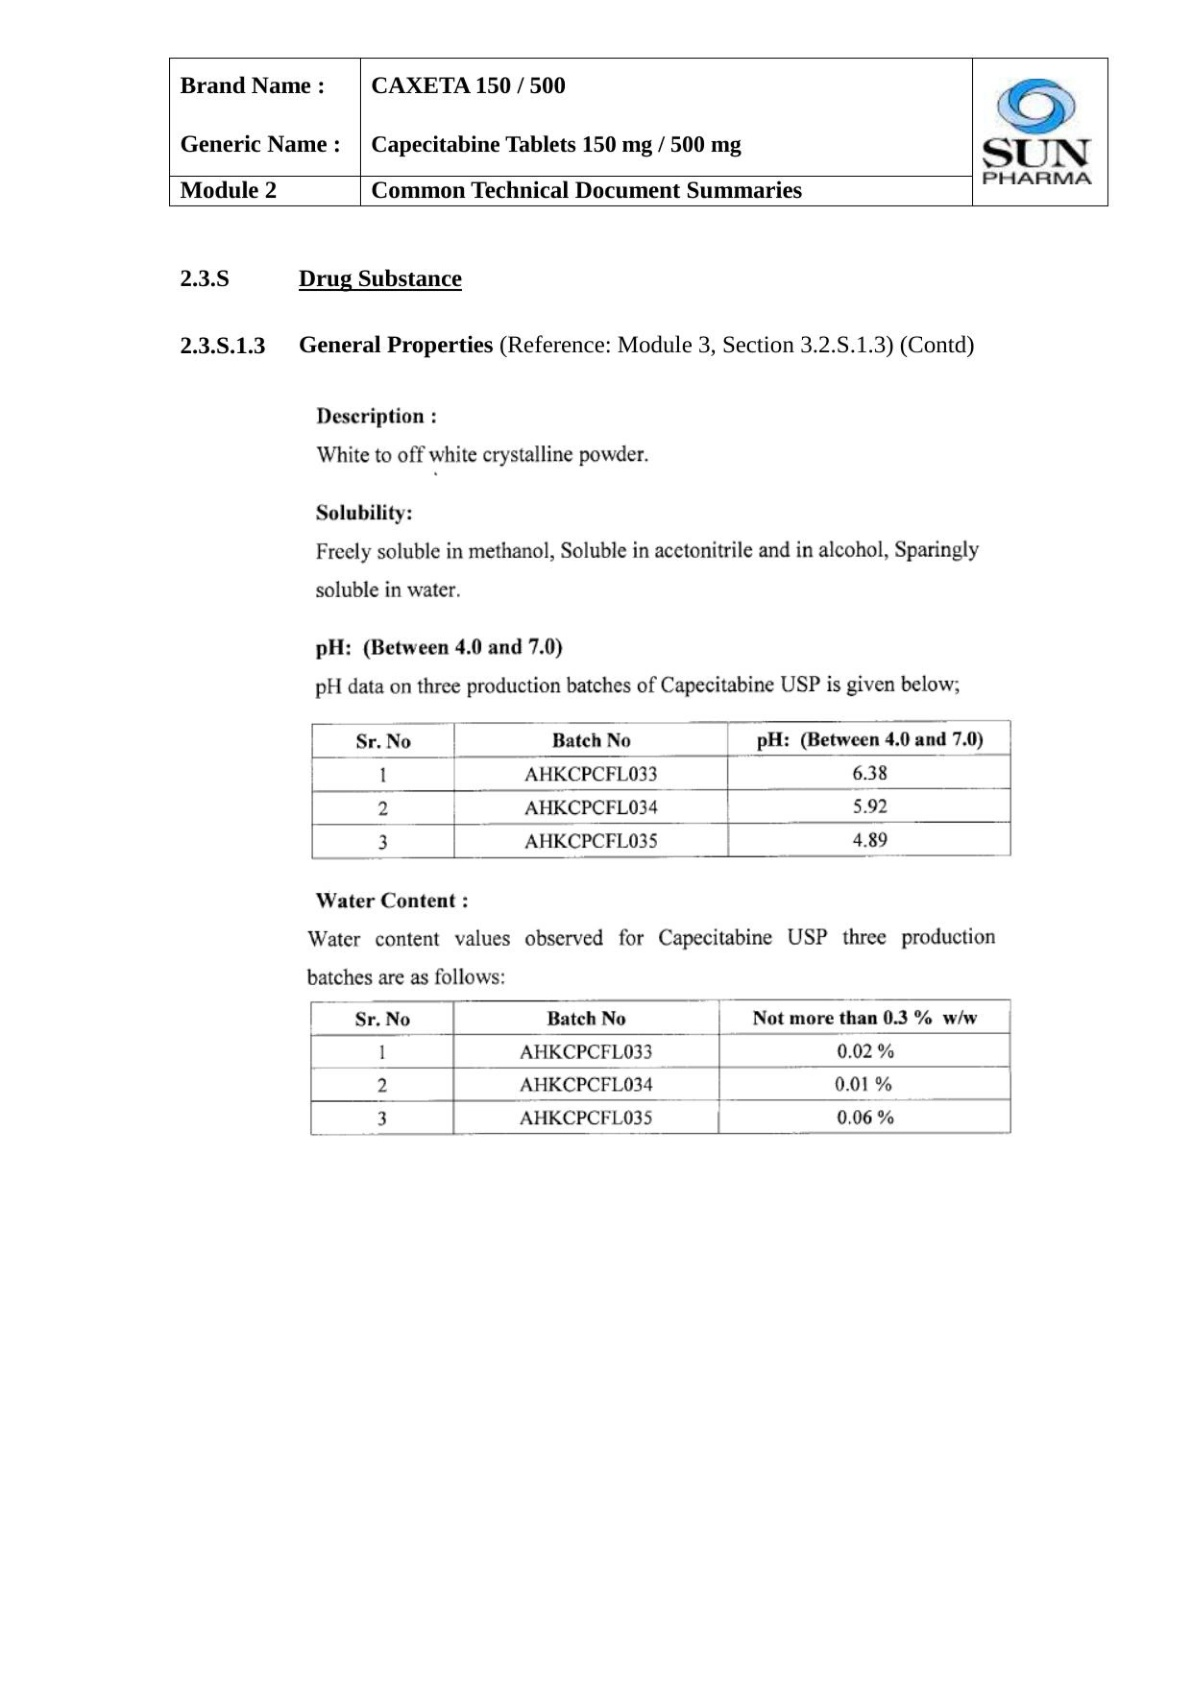full_lined: (310, 720, 1011, 860), (308, 997, 1011, 1136)
merged_cells: (166, 57, 1109, 208)
